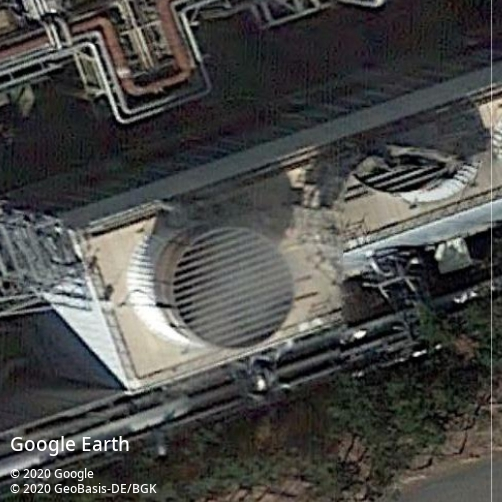Vent: (169, 226, 295, 351)
